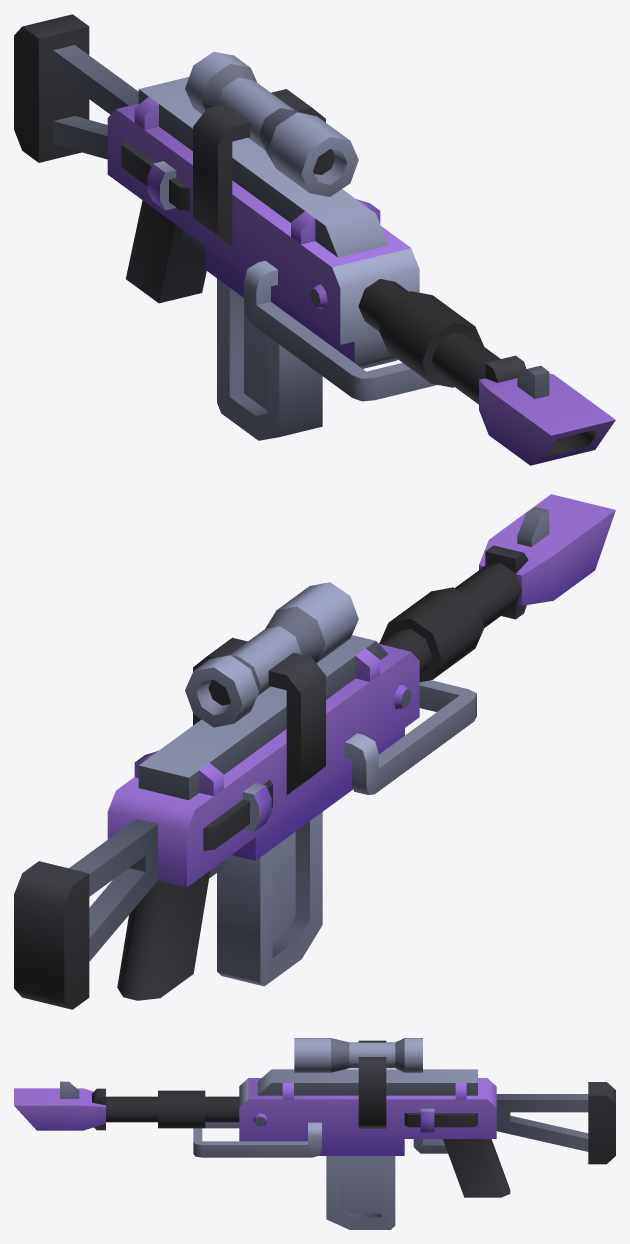
The model's file is weapon_rail_gun.glb.
3 renders of one model, top to bottom at view 1: azimuth 30°, elevation 25°; view 2: azimuth 150°, elevation 25°; view 3: azimuth 270°, elevation 25°, orthographic. The views are drawn at different scales.
Visible parts, largest first — view 1: blaster-f, scope, magazine; view 2: blaster-f, scope, magazine; view 3: blaster-f, scope, magazine.
Boxes of the visible parts, x1=… form: blaster-f: x1=14, y1=14, x2=615, y2=465; scope: x1=185, y1=51, x2=358, y2=246; magazine: x1=217, y1=278, x2=322, y2=440; blaster-f: x1=14, y1=494, x2=615, y2=1009; scope: x1=185, y1=582, x2=358, y2=795; magazine: x1=217, y1=812, x2=322, y2=986; blaster-f: x1=14, y1=1069, x2=615, y2=1197; scope: x1=294, y1=1038, x2=422, y2=1128; magazine: x1=326, y1=1156, x2=395, y2=1229.
Size of the model in its own units: 5.19 by 13.59 by 40.
